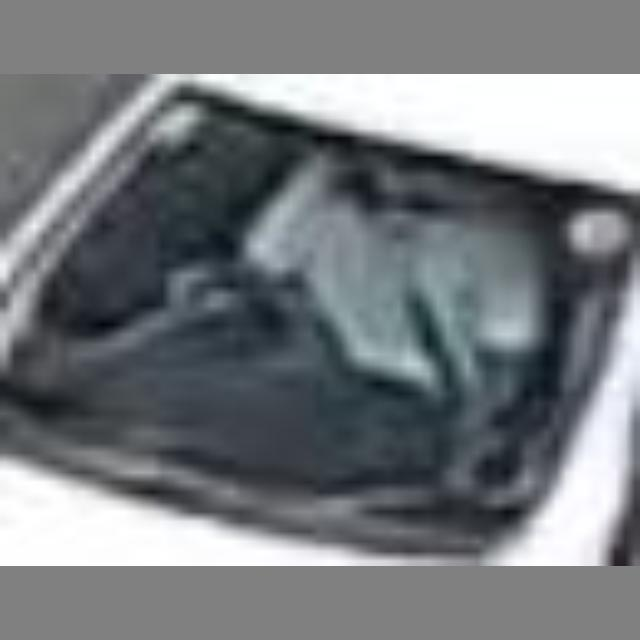pakai: (236, 163, 492, 448)
